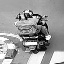mobil: (10, 6, 56, 56)
